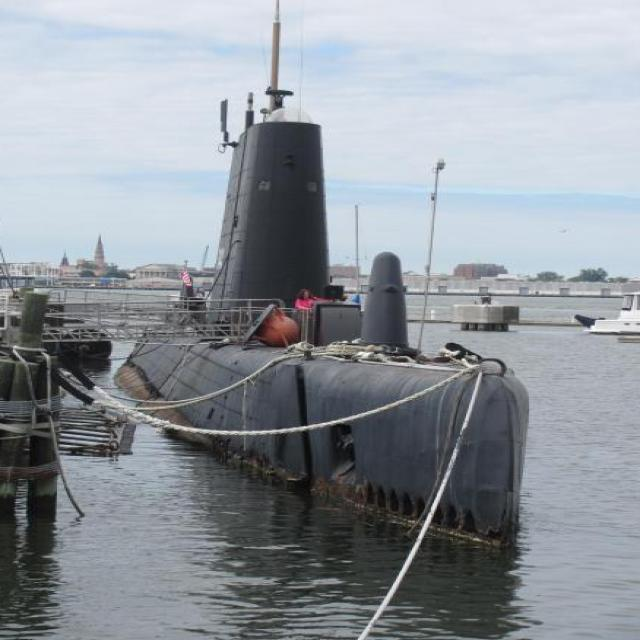submarine: (135, 1, 640, 410)
